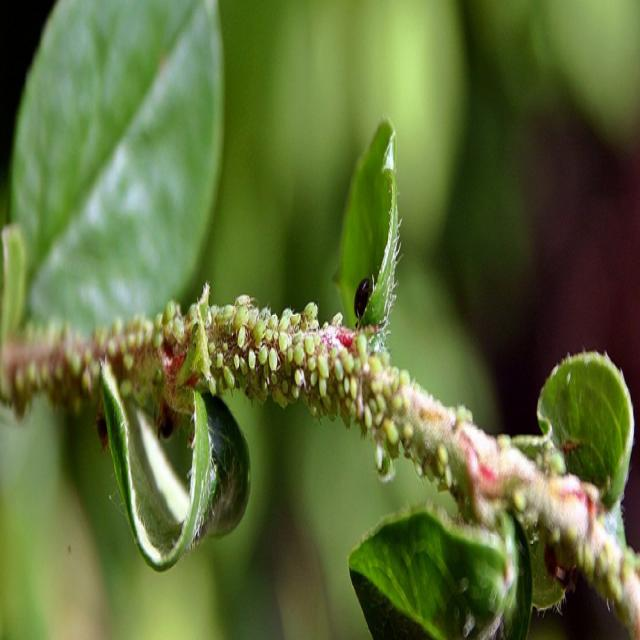Aphid-Grouped-: (218, 284, 358, 429), (104, 299, 188, 403), (358, 329, 416, 465)
